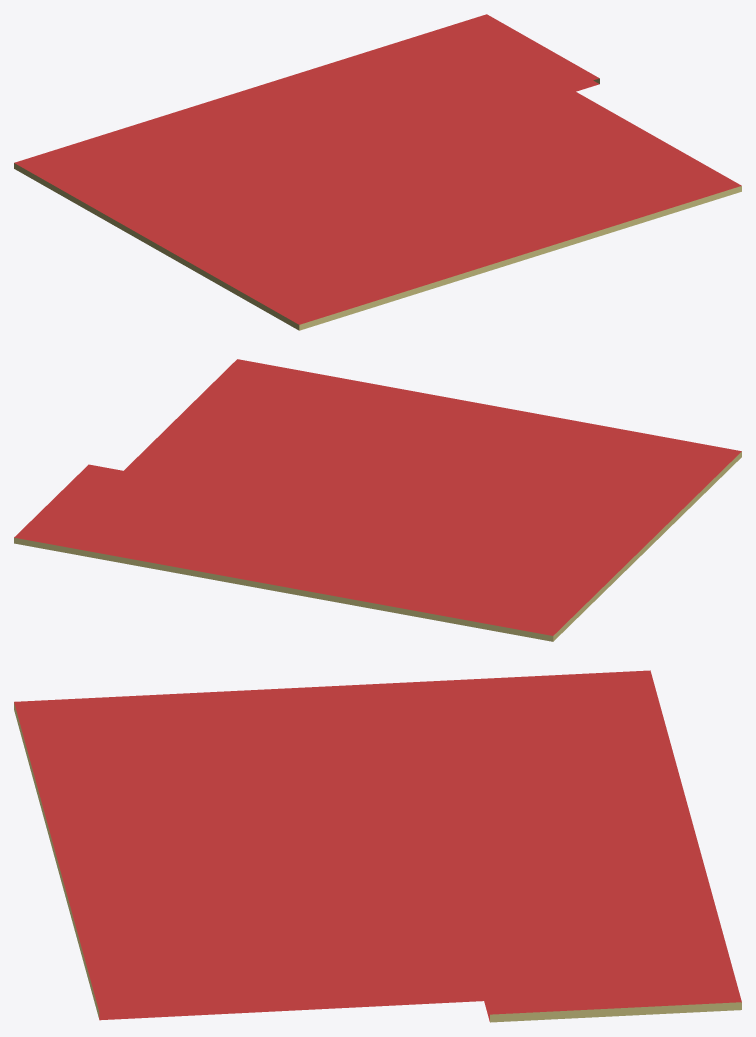
3 renders of one model, top to bottom at view 1: azimuth 30°, elevation 25°; view 2: azimuth 150°, elevation 25°; view 3: azimuth 270°, elevation 25°, orthographic. The views are drawn at different scales.
Bounding box in the file's own units: 9.34 × 8.35 × 0.1.
